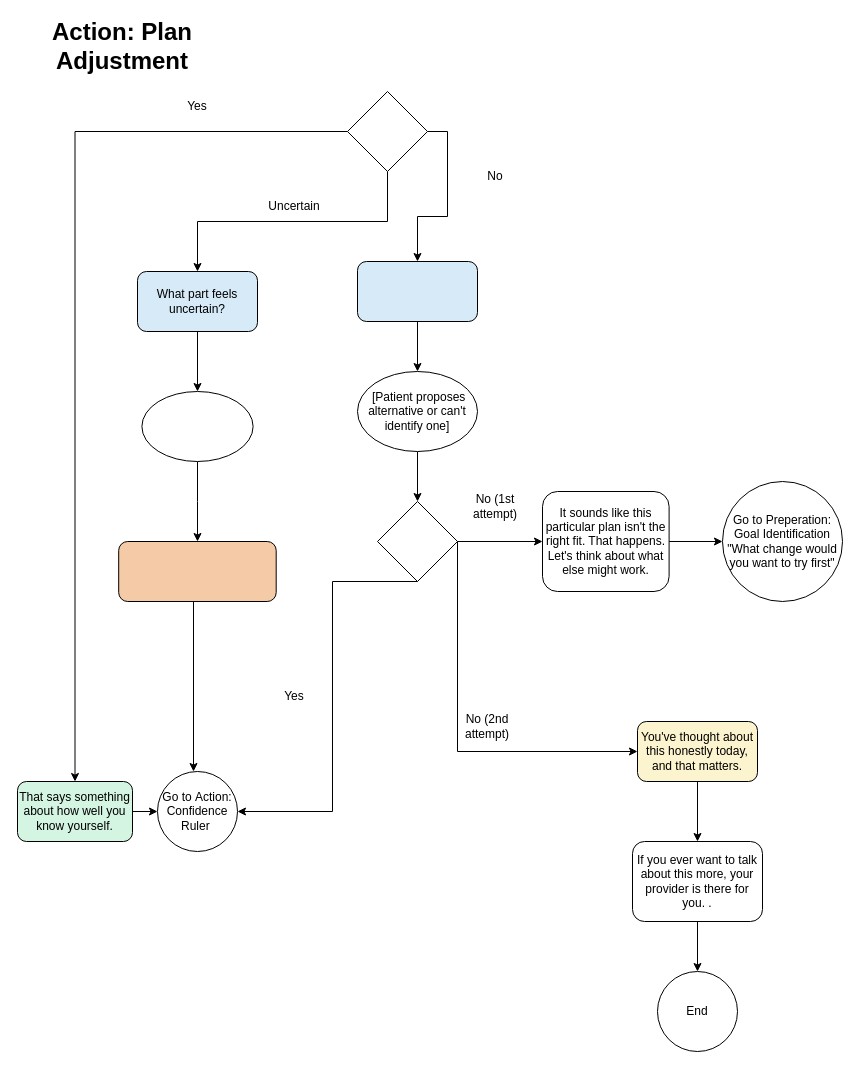
Some shapes in this 860 by 1069 pixel diagram are drawn without their labels. Here are the shapes that lost their labels. From the top down, the centre of each, then its label:
point 387,131: Does that feel doable?
point 417,291: You're being honest about that. What would feel more doable?
point 197,426: [Patient identifies the sticking point, may scale back]
point 417,541: Alternative proposed?
point 197,571: [Adjusted plan reflection]. You found a way to adjust that.
